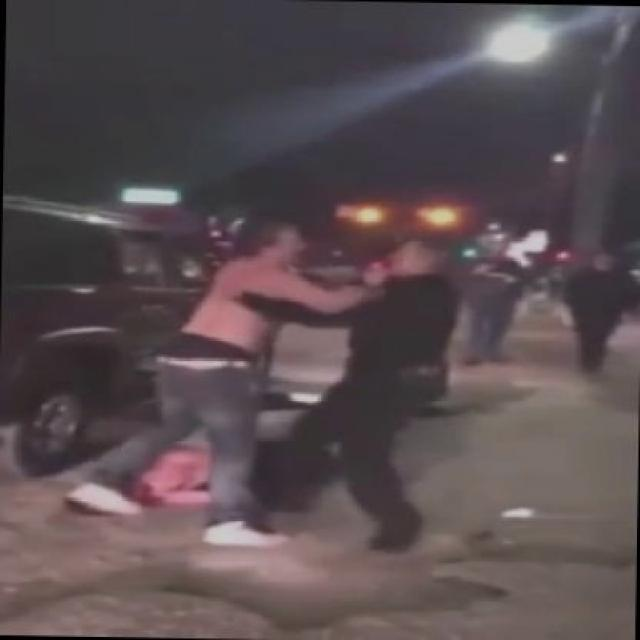fight: (67, 198, 456, 550)
non-fight: (559, 245, 640, 369)
